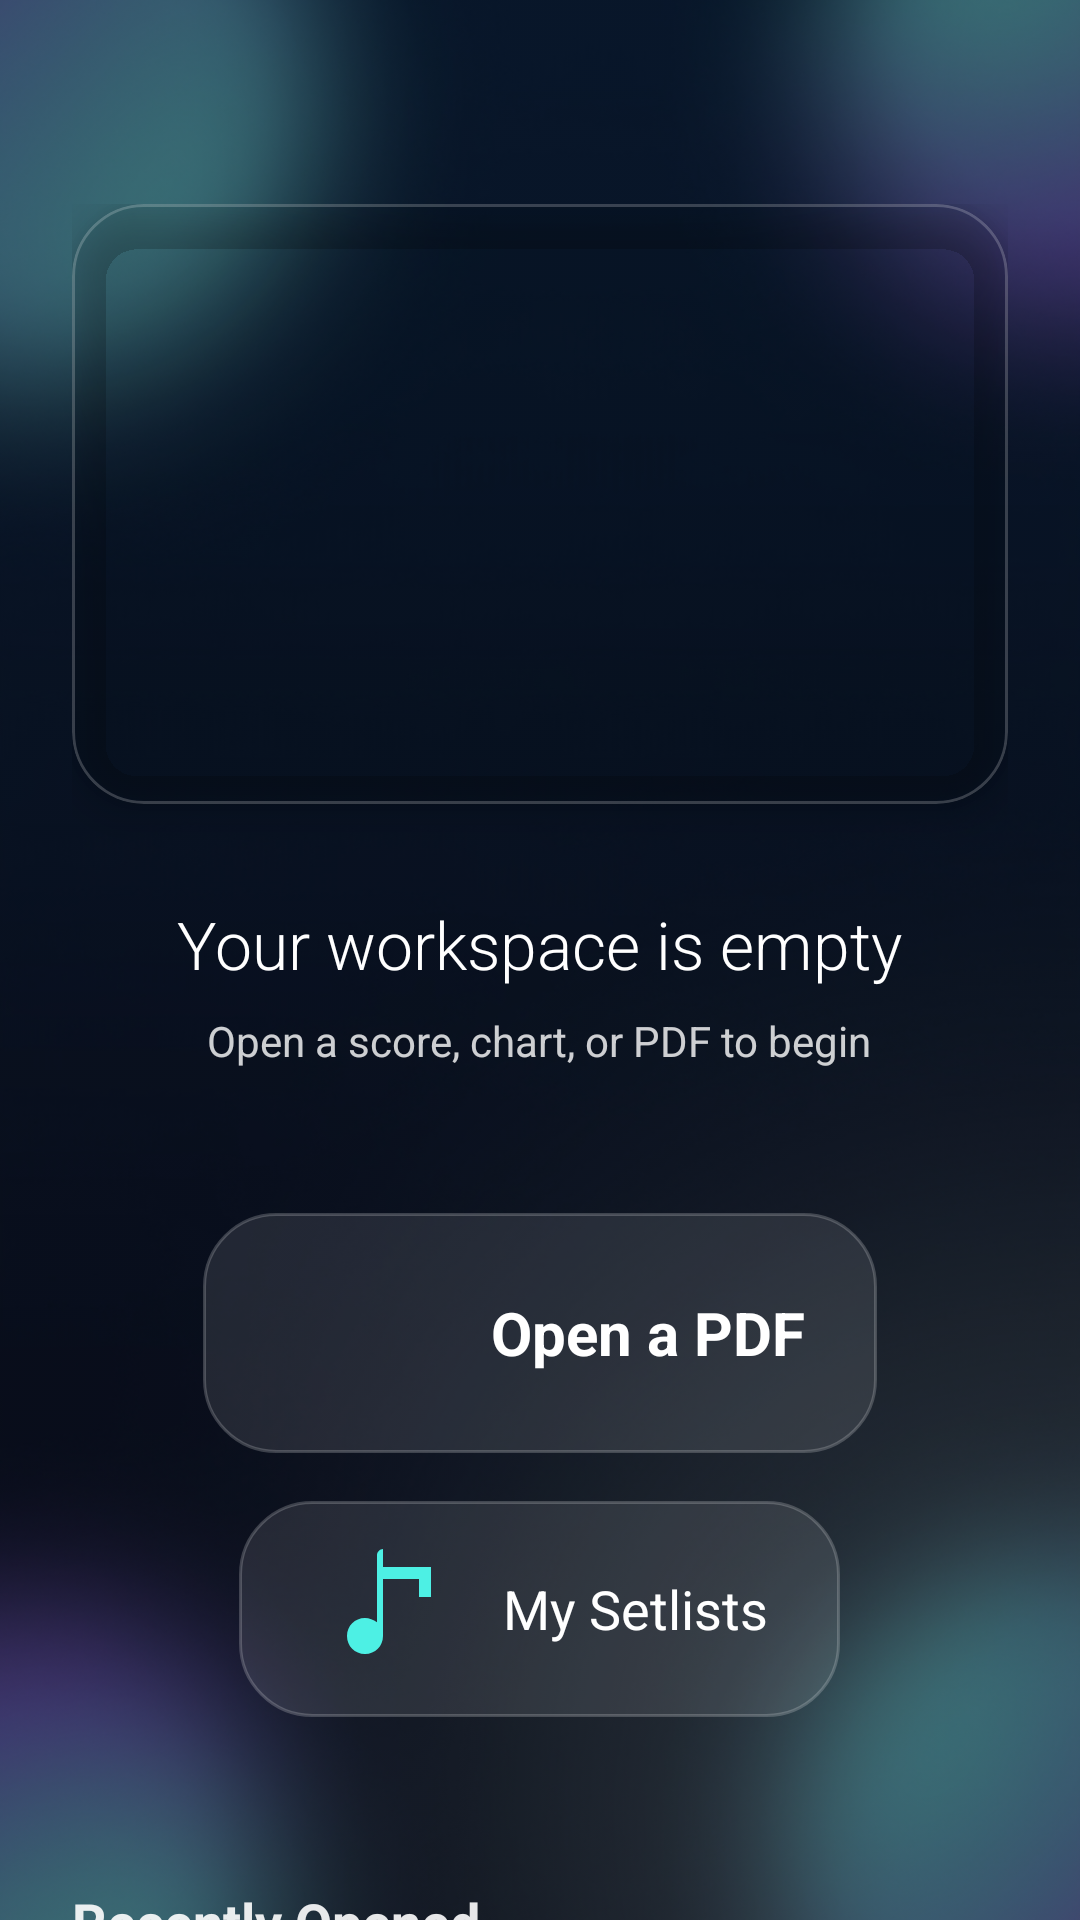

Locate icon controls on the screen. Image size 1080w x 1920h, boxes as (x1, y1, x2, y2).
music note staff: (347, 1549, 431, 1654)
